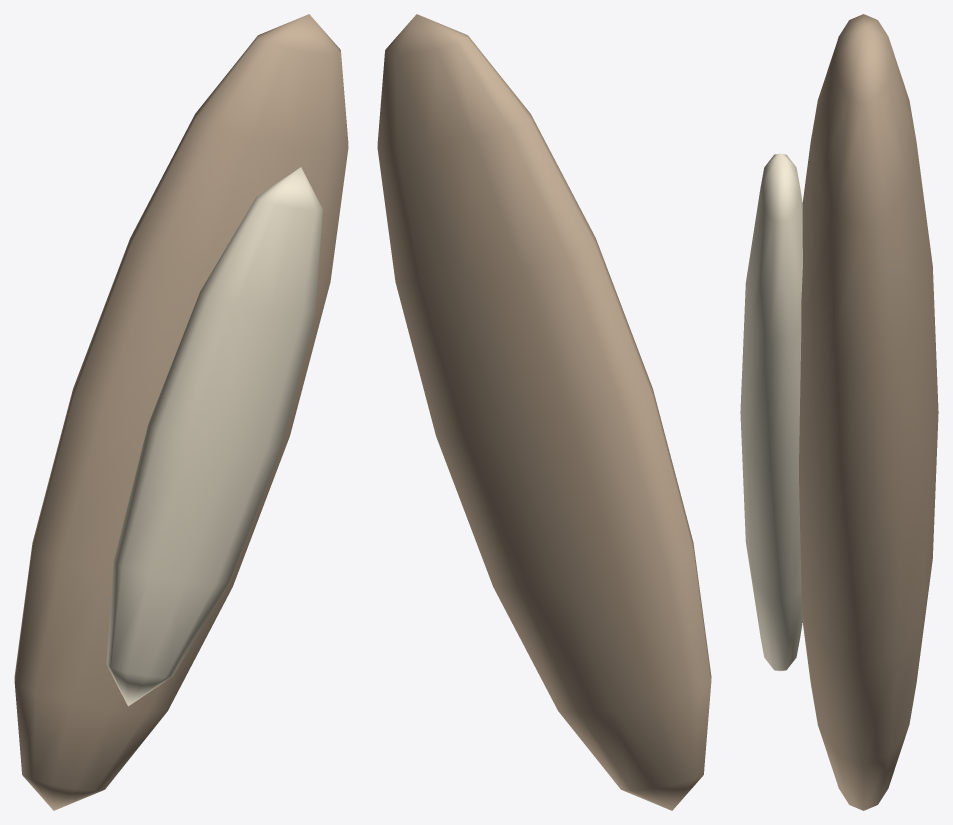
The model's file is cr_ear_a.fbx.
3 views of the same model, side by side, from view 1: azimuth 30°, elevation 25°; view 2: azimuth 150°, elevation 25°; view 3: azimuth 270°, elevation 25° (orthographic). The views are drawn at different scales.
Visible parts, largest first — view 1: Ear; view 2: Ear; view 3: Ear.
Part boxes in pixels (box(x1,y1,x2,y2)): Ear: box(14, 14, 348, 810); Ear: box(377, 14, 711, 810); Ear: box(740, 14, 938, 810).
Size of the model in its own units: 0.116 by 0.2443 by 0.0476.
